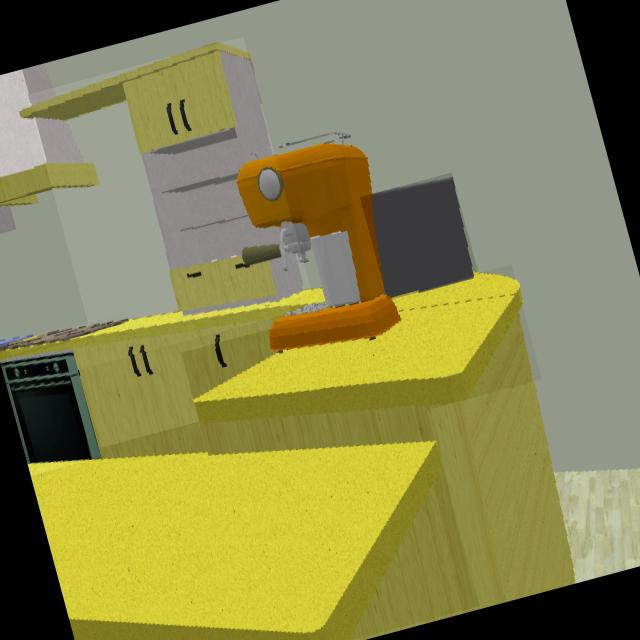cabinet: (31, 43, 303, 314), (75, 322, 271, 457)
countertop: (28, 443, 439, 640), (195, 273, 521, 424), (71, 304, 287, 348)
microwave: (373, 178, 473, 297)
oven: (0, 351, 100, 463)
stove: (9, 319, 127, 346)
